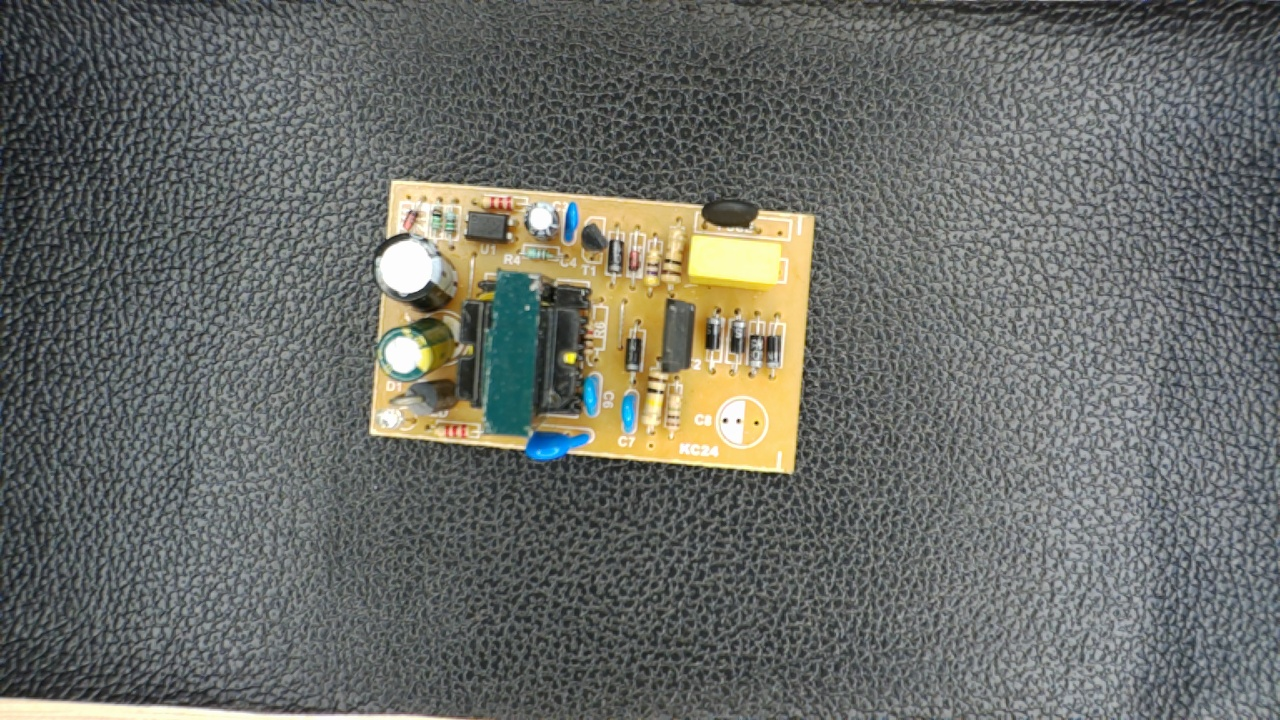fuse: (695, 194, 770, 237)
mov: (510, 417, 600, 462)
optocoupler: (456, 203, 522, 249)
